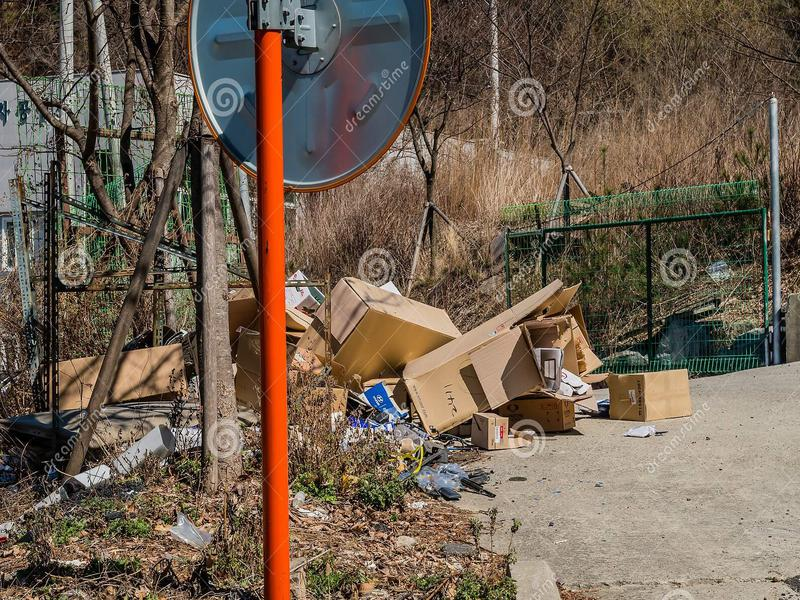cardboard: (402, 278, 607, 443), (293, 263, 463, 390), (35, 337, 192, 413), (603, 356, 697, 425)
